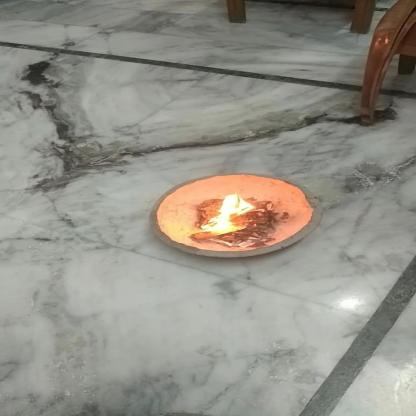fire: (188, 190, 261, 236)
